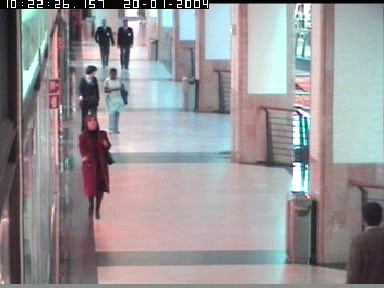person: (79, 114, 113, 220), (345, 202, 383, 284), (77, 64, 100, 132), (103, 68, 127, 133), (94, 19, 116, 68), (116, 20, 133, 70)
